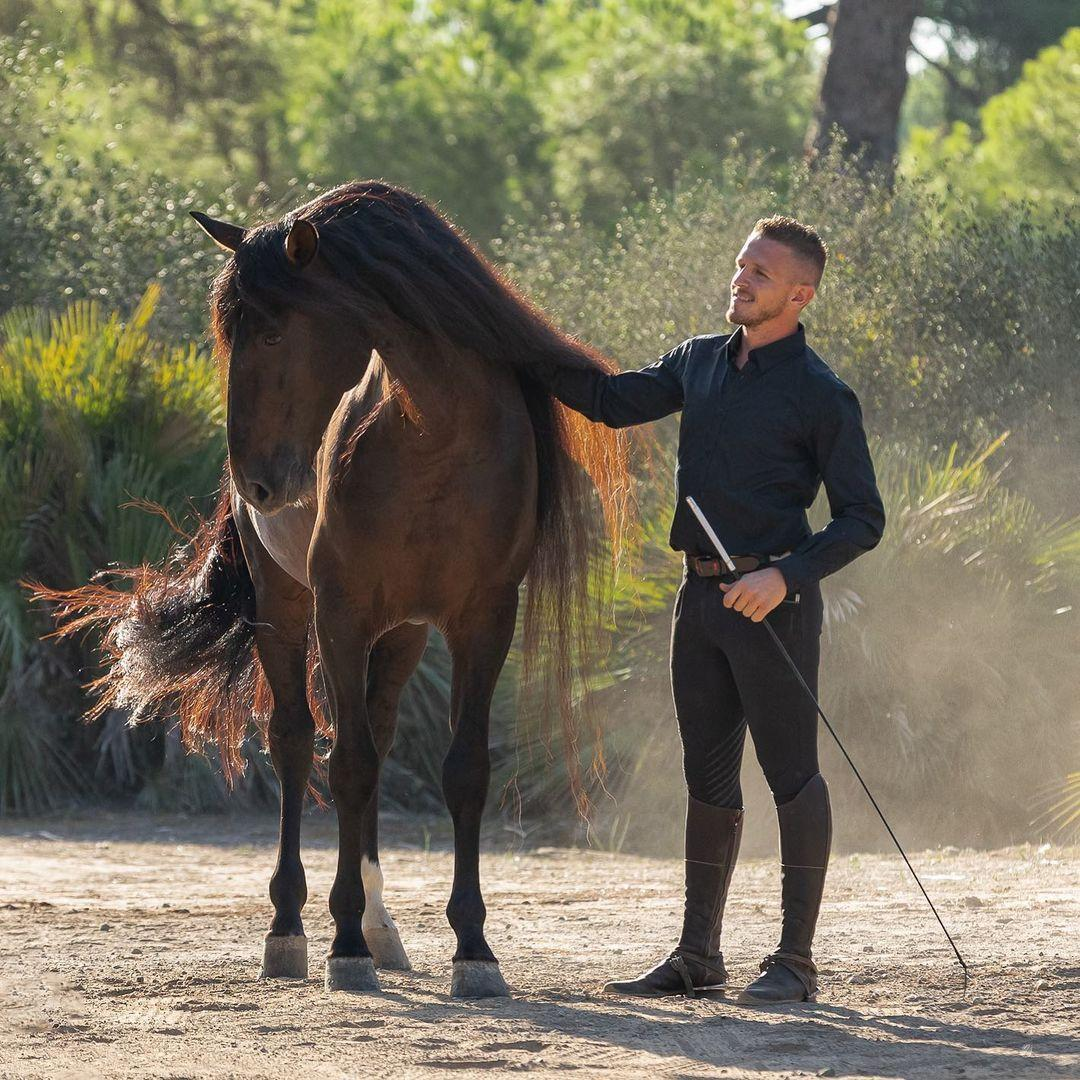horse: (152, 138, 570, 998)
